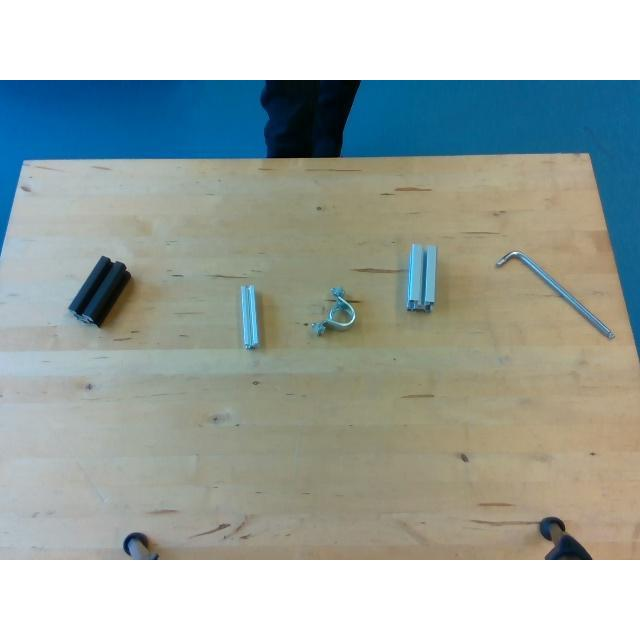AllenKey: (494, 248, 614, 339)
F20_20_G: (240, 284, 260, 348)
Housing: (308, 286, 358, 334)
S40_40_B: (68, 256, 132, 324)
S40_40_G: (407, 242, 438, 310)
